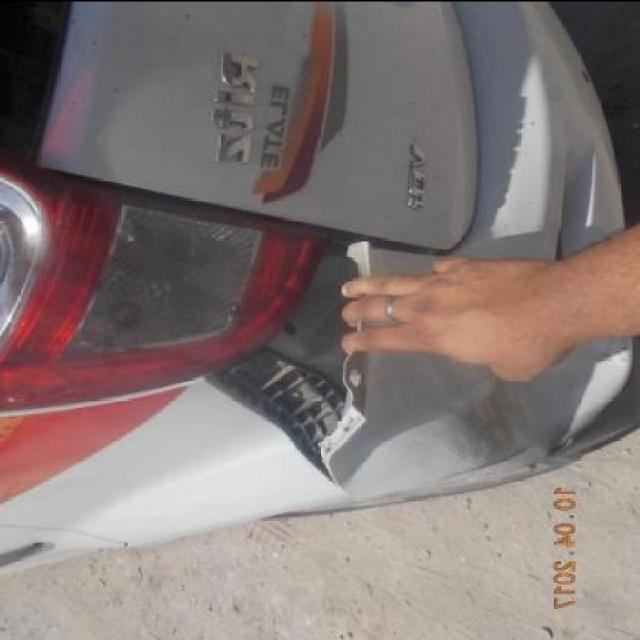damage: (205, 235, 368, 481)
